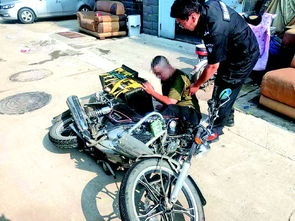falling: (137, 47, 212, 148)
